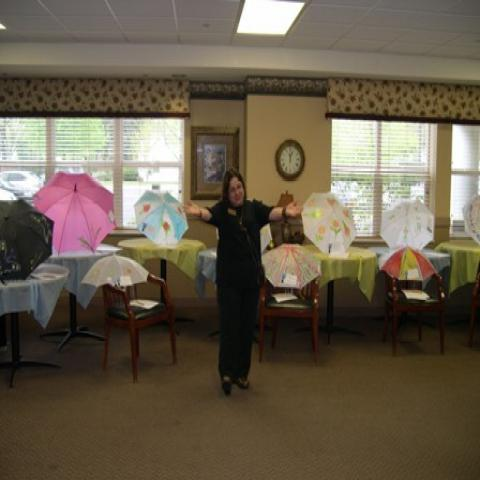car: (1, 170, 44, 206)
